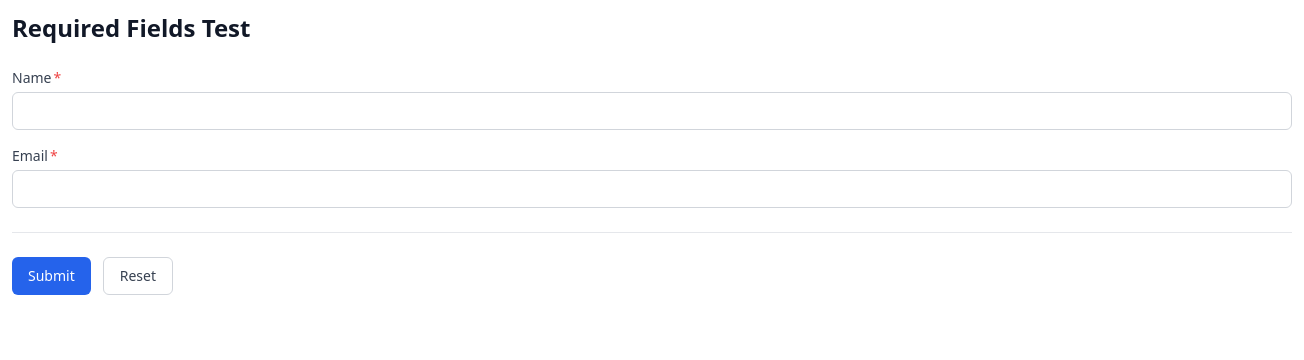
Test case: Form Validation › Required Fields Block Submit › should show error messages when submitting empty required fields
Note: Try to submit without filling fields
Click the button "Submit": (51, 276) [12,257,91,295]
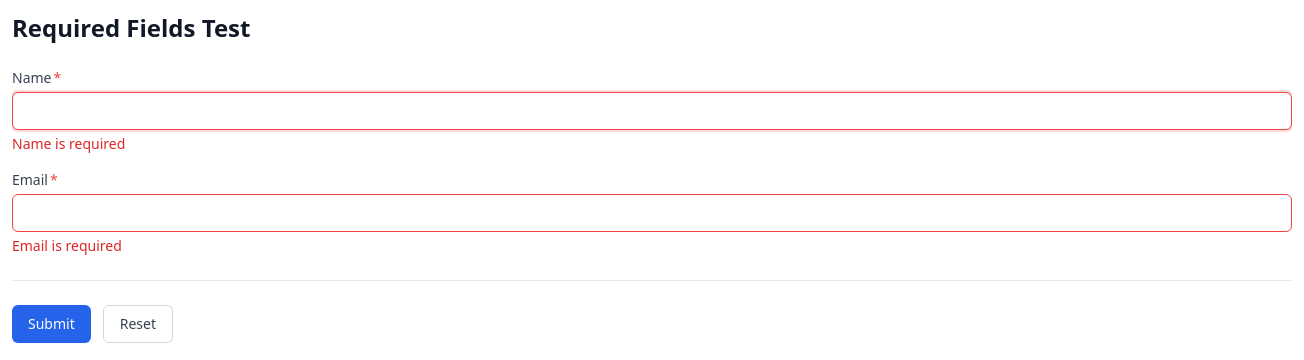
Now the text "Name is required" is shown, box [12,134,125,153]
Now the text "Email is required" is shown, box [12,236,122,255]
